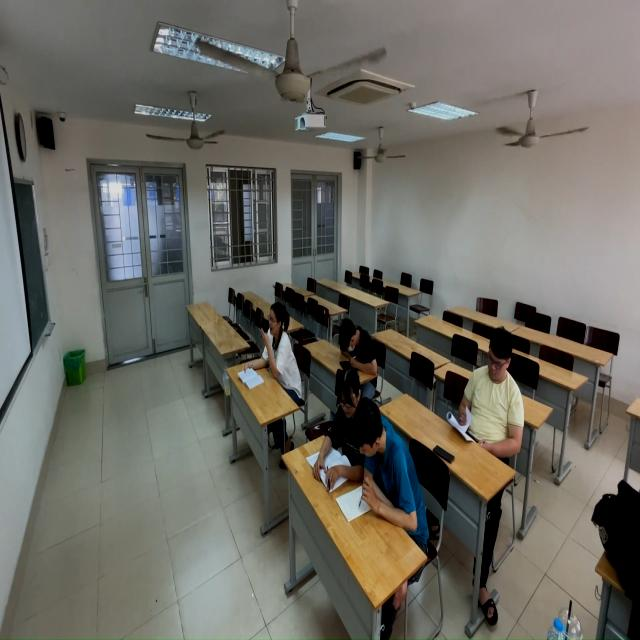read: (443, 324, 524, 468), (348, 394, 420, 539), (316, 360, 379, 487), (236, 292, 304, 403), (336, 313, 379, 380)
